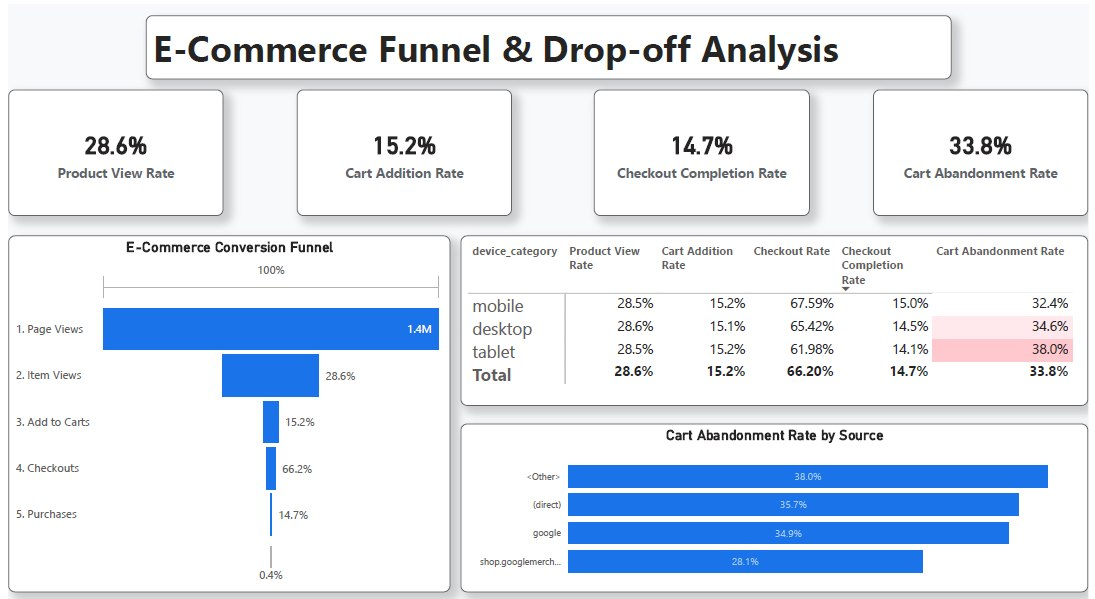

The page's visual inventory and layout, read from the dashboard file:
{"tool":"powerbi","page":{"name":"Funnel Analysis","canvas":[1280,720],"ordinal":1},"visuals":[{"type":"textbox","box":[163,12.8,955.3,76.5],"z":0},{"type":"card","fields":{"Values":["_Measures.Product View Rate"]},"box":[0,100.6,255.1,150.2],"z":1000},{"type":"card","fields":{"Values":["_Measures.Cart Addition Rate"]},"box":[341.6,100.6,255.1,150.2],"z":2000},{"type":"card","fields":{"Values":["_Measures.Checkout Completion Rate"]},"box":[694.5,100.6,255.1,150.2],"z":3000},{"type":"card","fields":{"Values":["_Measures.Cart Abandonment Rate"]},"box":[1024.7,100.6,255.1,150.2],"z":4000},{"type":"funnel","title":"E-Commerce Conversion Funnel","fields":{"Category":["Funnel_Stages.Stage"],"Y":["Funnel_Stages.Funnel Values"]},"box":[0,273.5,524.4,423.8],"z":5000},{"type":"pivotTable","title":"Top Revenue Channels (Source)","fields":{"Rows":["Query1.device_category"],"Values":["_Measures.Product View Rate","_Measures.Cart Addition Rate","_Measures.Checkout Rate","_Measures.Checkout Completion Rate","_Measures.Cart Abandonment Rate"]},"box":[535.7,273.5,744.1,202.7],"z":6000},{"type":"clusteredBarChart","title":"Cart Abandonment Rate by Source","fields":{"Category":["Query1.source"],"Y":["_Measures.Cart Abandonment Rate"]},"box":[535.7,497.5,744.1,199.8],"z":7000}]}

Visuals, with their boxes in screenshot pixels (x1, y1, x2, y2), scaled from the page's 1280x720 canvas onto the 1095x599 screenshot:
textbox: detection(139, 11, 957, 74)
card - _Measures.Product View Rate: detection(0, 84, 218, 209)
card - _Measures.Cart Addition Rate: detection(292, 84, 510, 209)
card - _Measures.Checkout Completion Rate: detection(594, 84, 812, 209)
card - _Measures.Cart Abandonment Rate: detection(877, 84, 1094, 209)
"E-Commerce Conversion Funnel" funnel: detection(0, 228, 449, 580)
"Top Revenue Channels (Source)" pivotTable: detection(458, 228, 1094, 396)
"Cart Abandonment Rate by Source" clusteredBarChart: detection(458, 414, 1094, 580)
